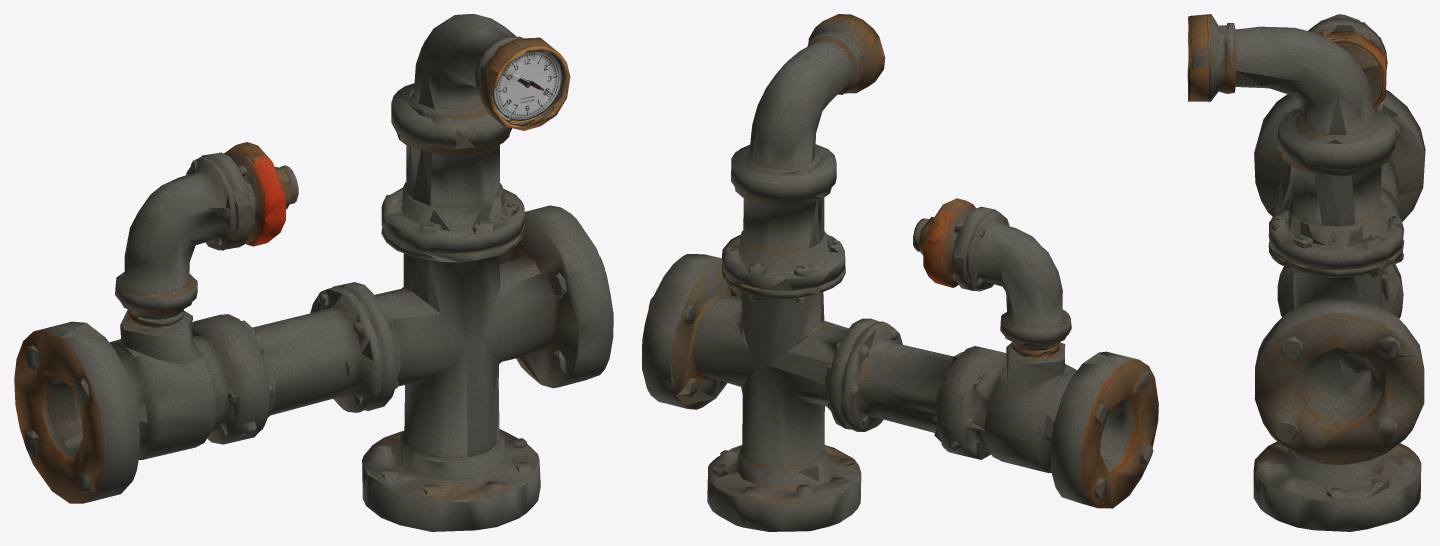
The model's file is Vannes.fbx.
The picture shows the model from 3 angles, left to right: view 1: azimuth 30°, elevation 25°; view 2: azimuth 150°, elevation 25°; view 3: azimuth 270°, elevation 25°; orthographic projection. The views are drawn at different scales.
Visible parts, largest first — view 1: Mesh_0; view 2: Mesh_0; view 3: Mesh_0.
Part boxes in pixels (bbox=[...]): Mesh_0: bbox=[14, 14, 613, 531]; Mesh_0: bbox=[642, 14, 1158, 531]; Mesh_0: bbox=[1187, 14, 1425, 531].
Size of the model in its own units: 190 by 177 by 79.76.
1 material, 1 textured.
